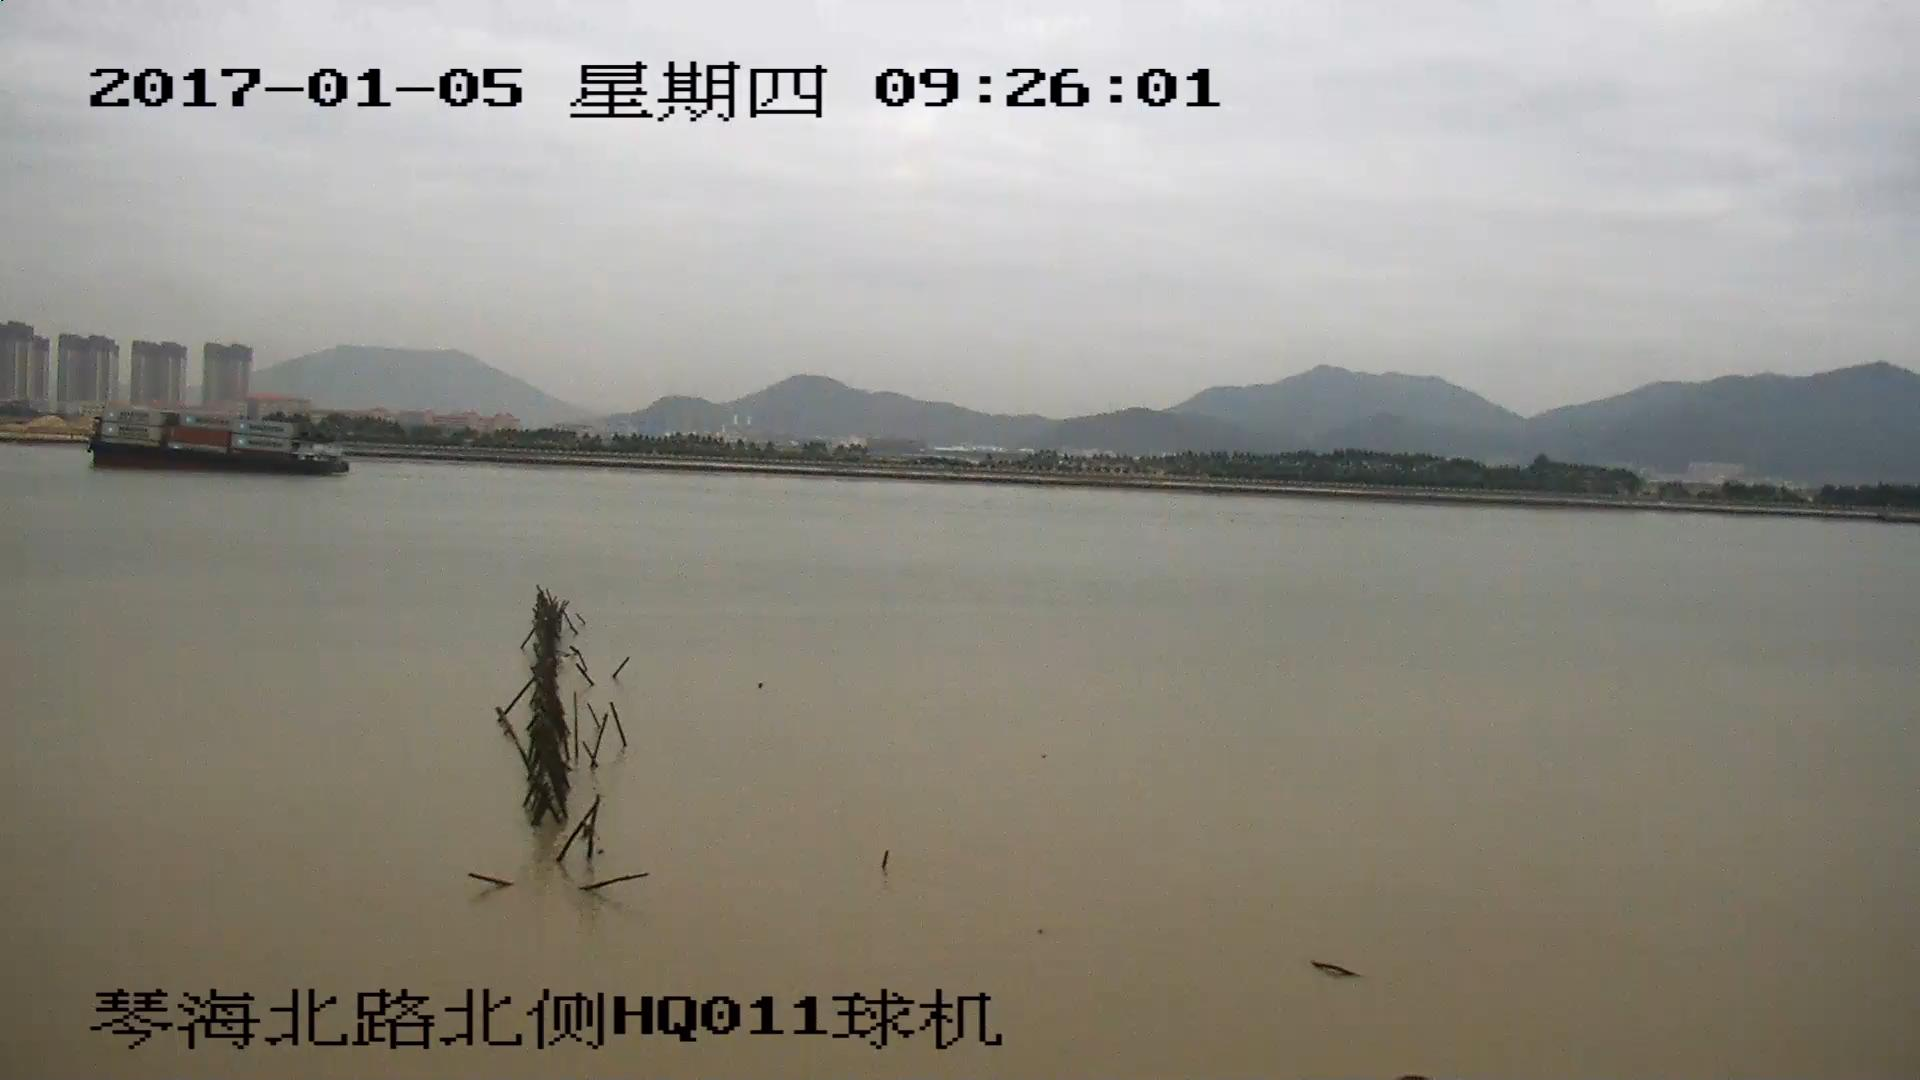container ship: (91, 413, 346, 473)
